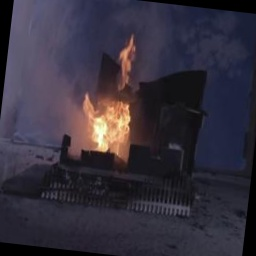fire: (74, 58, 149, 162)
